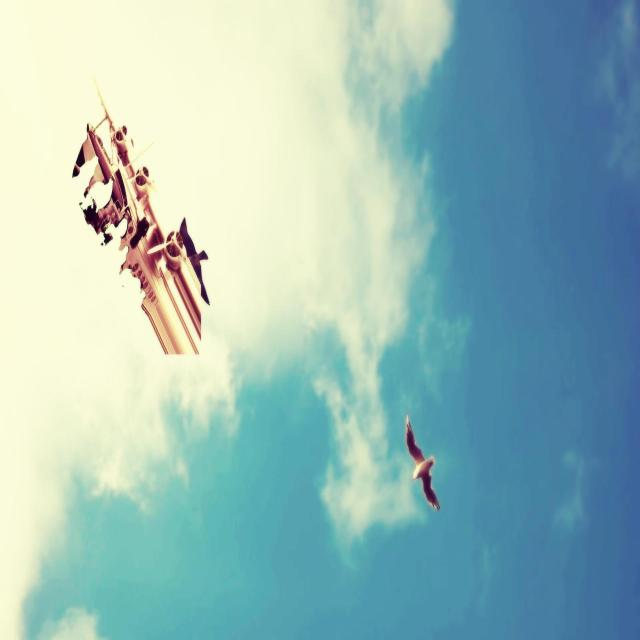airplane: (72, 75, 210, 356)
